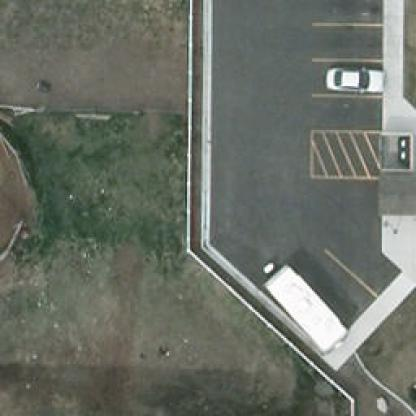camping car: (256, 255, 348, 354)
car: (325, 68, 382, 94)
